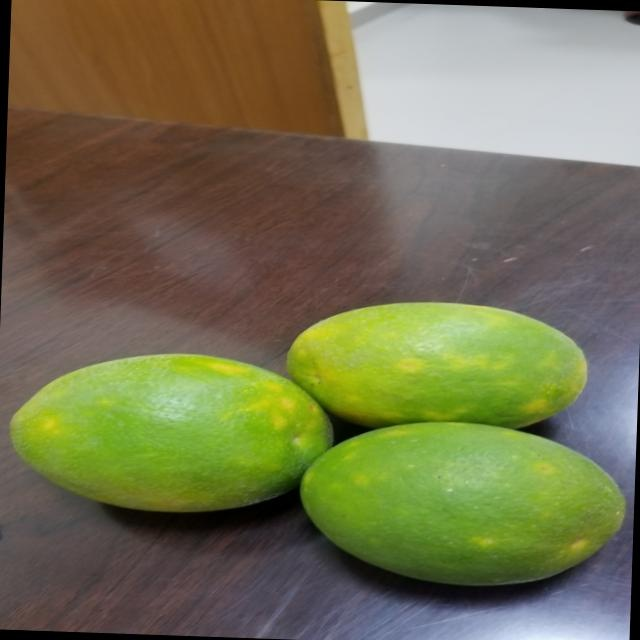agrume: (282, 419, 626, 605), (0, 336, 342, 522), (277, 292, 598, 438)
